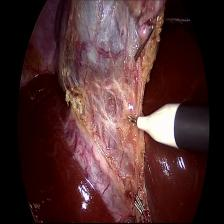Grasper: (126, 100, 184, 152)
